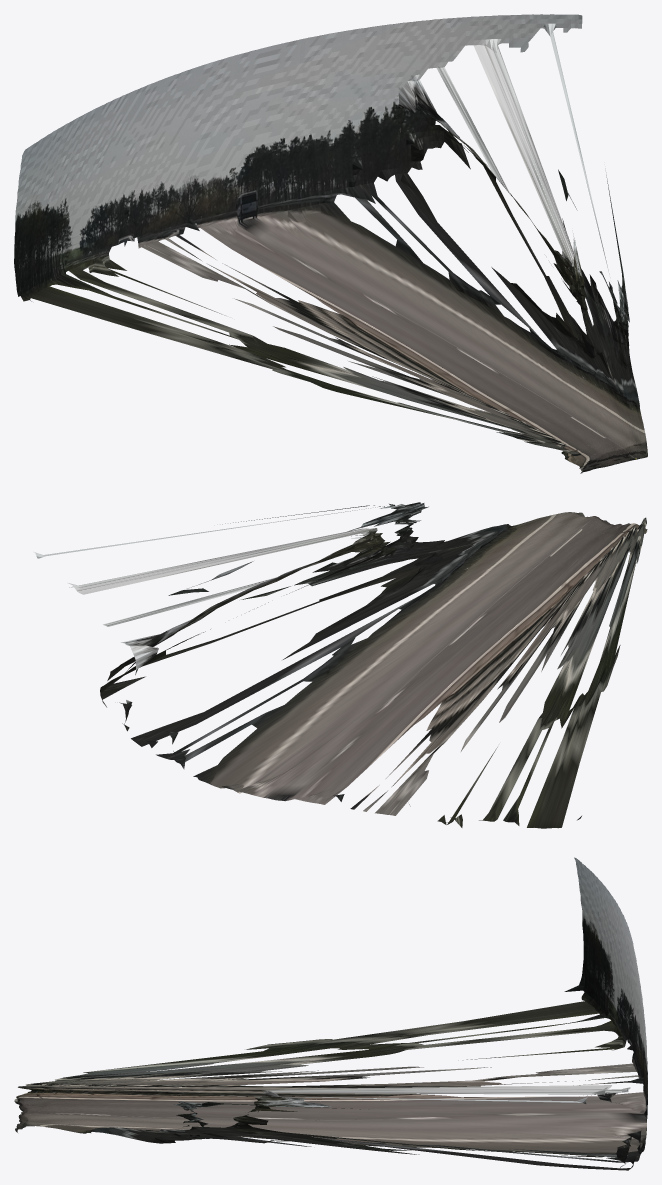
The picture shows the model from 3 angles, top to bottom: view 1: azimuth 30°, elevation 25°; view 2: azimuth 150°, elevation 25°; view 3: azimuth 270°, elevation 25°; orthographic projection. The views are drawn at different scales.
Visible parts, largest first — view 1: defaultobject; view 2: defaultobject; view 3: defaultobject.
Part boxes in pixels (left/top/right/bottom): defaultobject: left=14, top=14, right=647, bottom=473; defaultobject: left=34, top=502, right=647, bottom=828; defaultobject: left=14, top=857, right=647, bottom=1170.
Size of the model in its own units: 40.92 by 12.45 by 44.43.
1 material, 1 textured.
